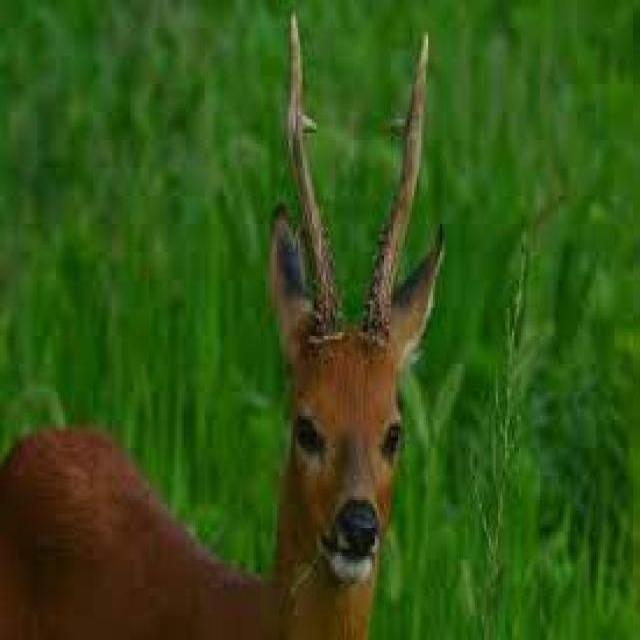deer: (251, 0, 476, 621)
